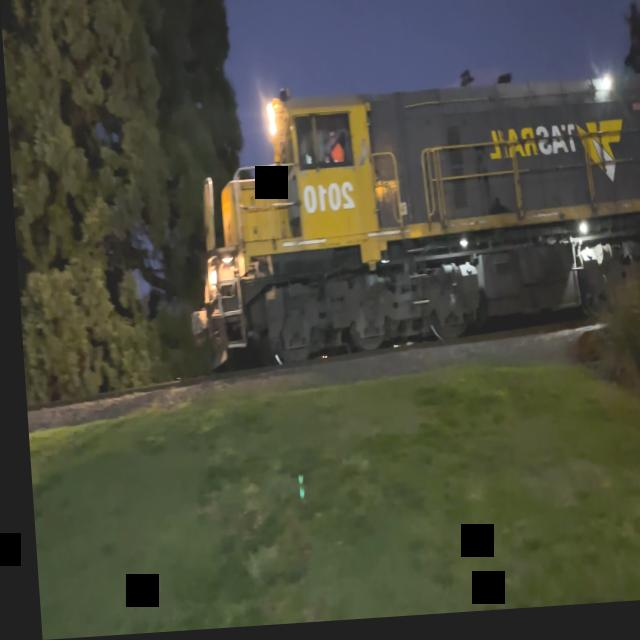locomotive: (173, 51, 640, 373)
